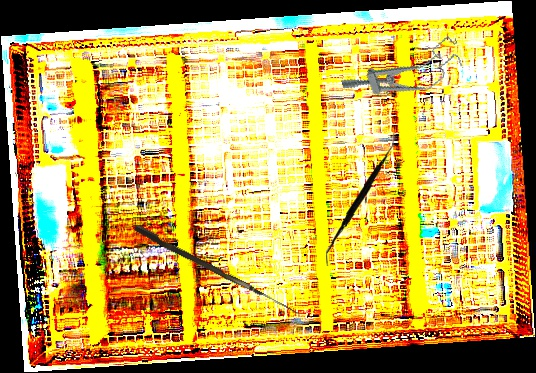Hook Surgical: (132, 223, 304, 316)
Spatula Surgical: (321, 132, 400, 267)
Speculum: (338, 34, 468, 114)
